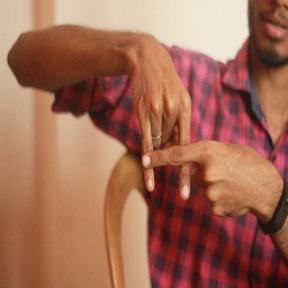H: (114, 96, 219, 207)
